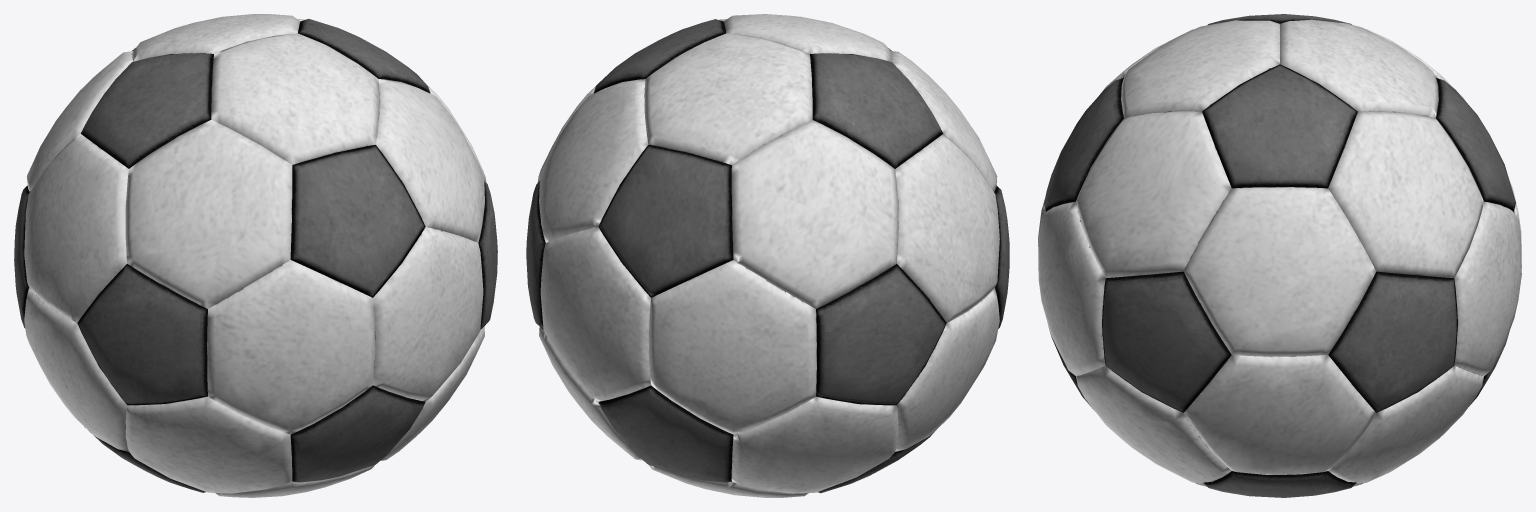
The model's file is soccer_ball.dae.
3 renders of one model, left to right at view 1: azimuth 30°, elevation 25°; view 2: azimuth 150°, elevation 25°; view 3: azimuth 270°, elevation 25°, orthographic.
Parts seen in each view (by area): view 1: Soccer-Ball.001_Solid.004; view 2: Soccer-Ball.001_Solid.004; view 3: Soccer-Ball.001_Solid.004.
Boxes of the visible parts, left/top/right/bottom form: Soccer-Ball.001_Solid.004: left=14, top=14, right=497, bottom=497; Soccer-Ball.001_Solid.004: left=526, top=14, right=1009, bottom=497; Soccer-Ball.001_Solid.004: left=1038, top=14, right=1521, bottom=497.
Size of the model in its own units: 0.1333 by 0.133 by 0.1333.
1 material, 1 textured.
